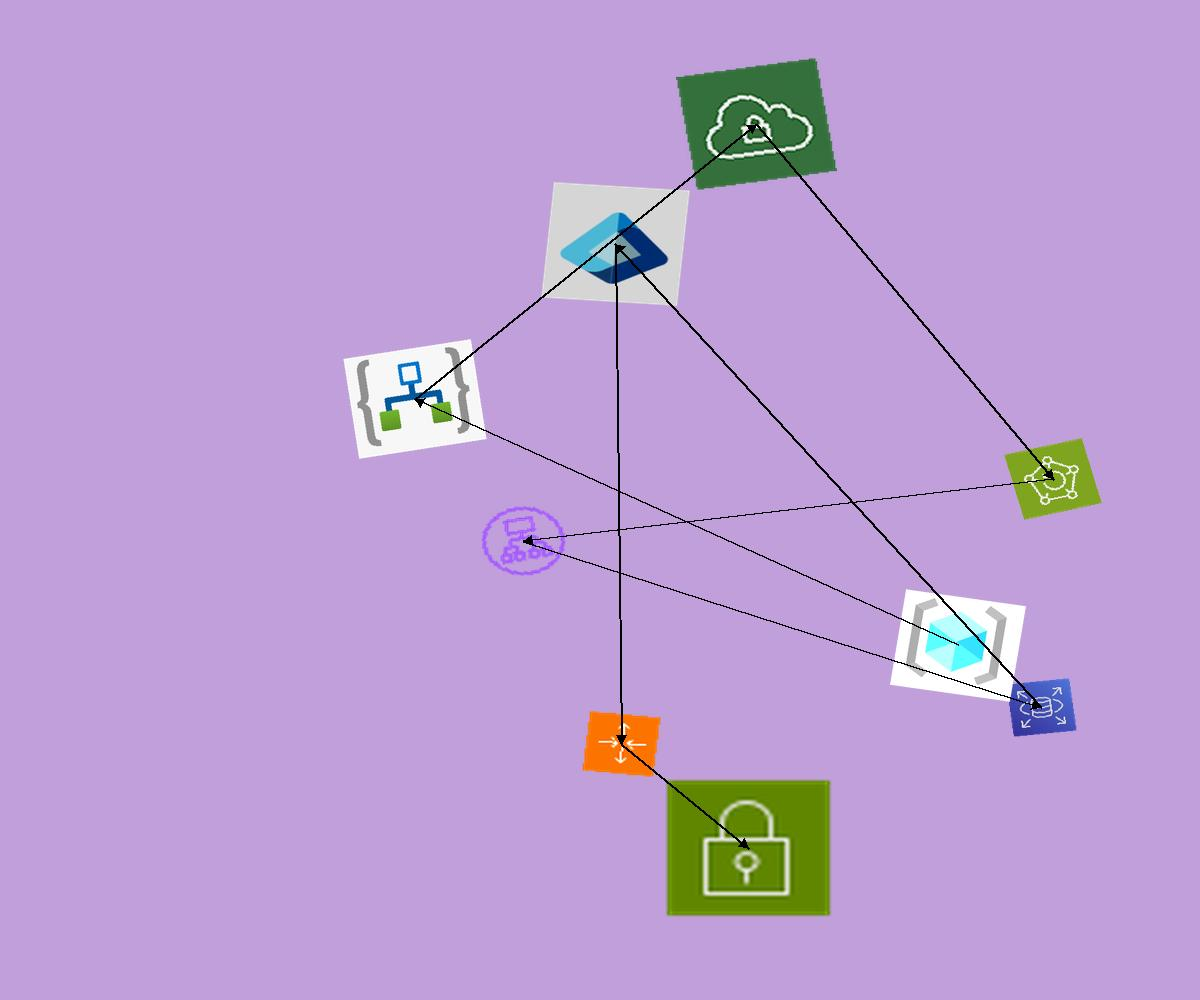AWS-Backup: (1004, 438, 1102, 520)
AWS-Private_vpc: (676, 57, 837, 191)
AWS-Public-subnet: (663, 777, 834, 919)
AWS-RDS: (1006, 678, 1077, 737)
AWS-Res_Elastic-Load-Balancing_Application-Load-Balancer: (469, 496, 578, 586)
AWS-Scaling-group: (581, 710, 662, 778)
Azure_integration-204-Logic-Apps: (343, 339, 487, 459)
Azure_microsoft_entra: (541, 182, 690, 306)
Azure_resource_group: (890, 589, 1026, 702)
